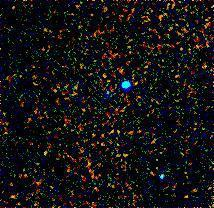star: (122, 67, 152, 97)
